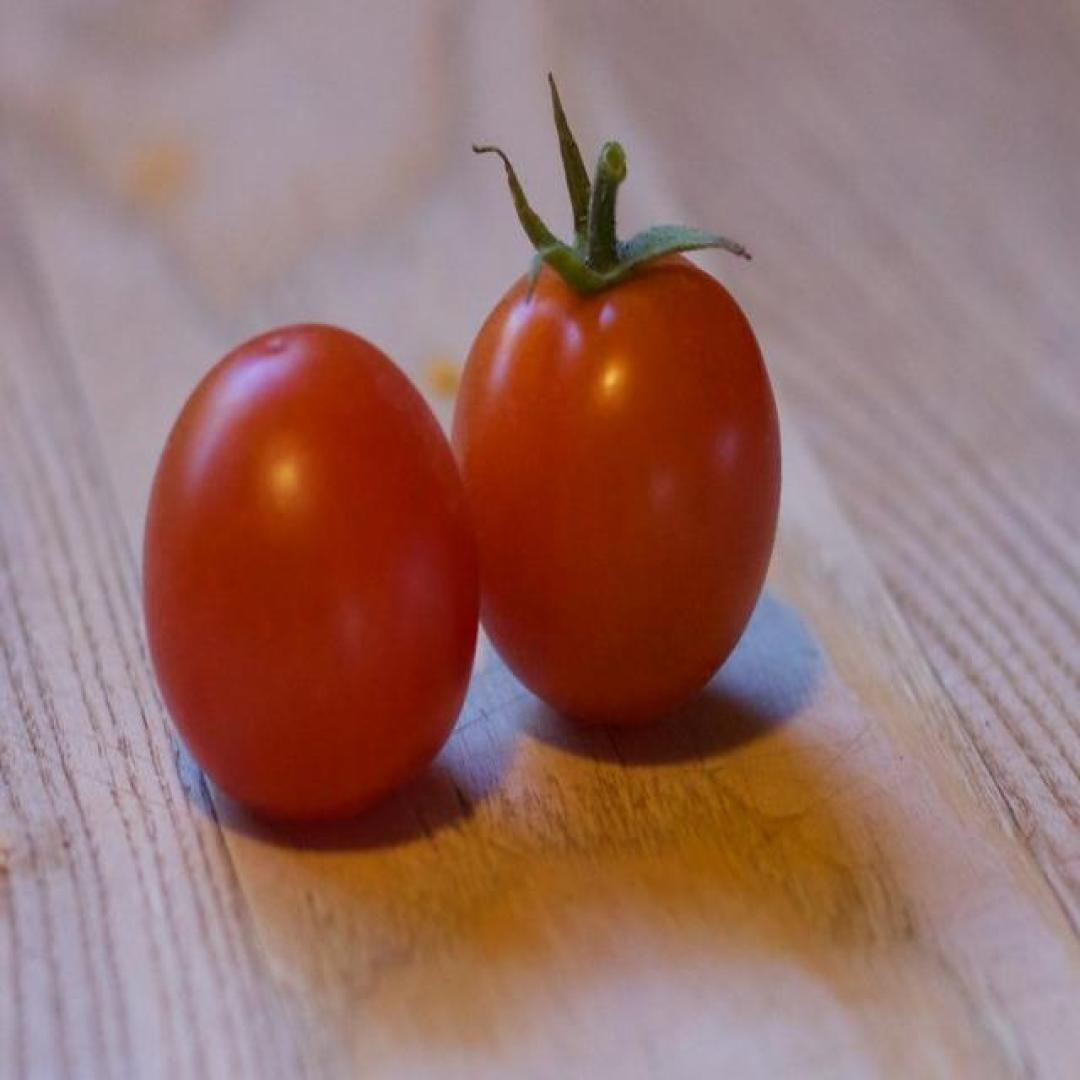matang: (139, 322, 478, 826), (449, 238, 781, 727)
